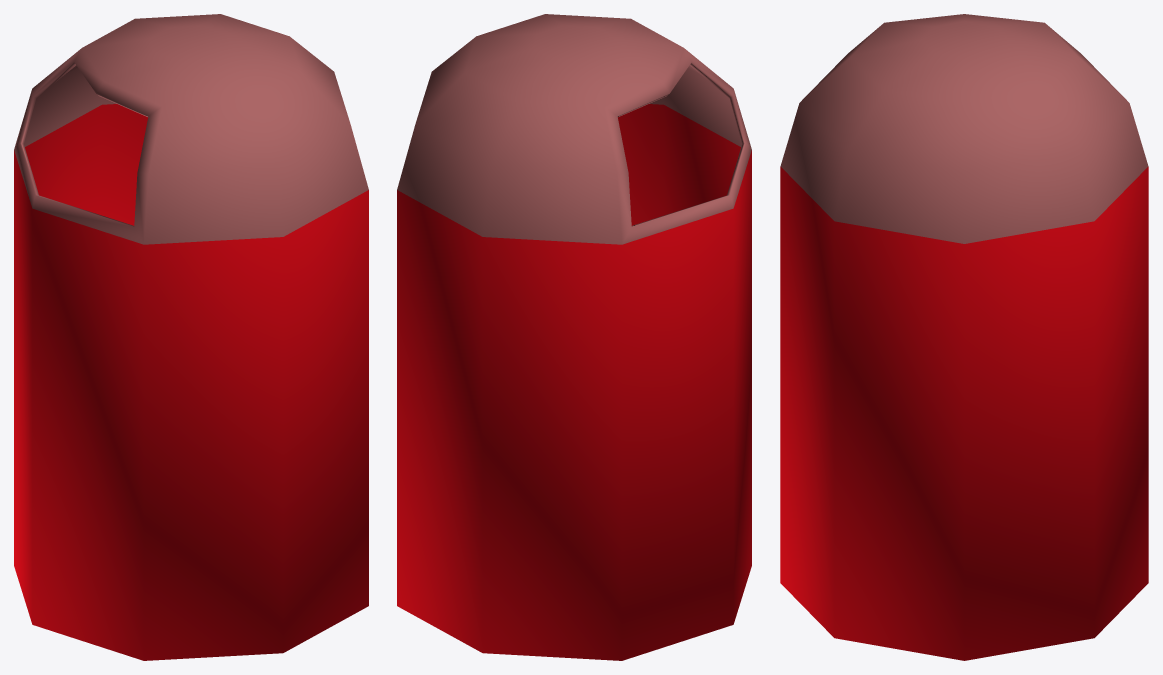
The picture shows the model from 3 angles, left to right: view 1: azimuth 30°, elevation 25°; view 2: azimuth 150°, elevation 25°; view 3: azimuth 270°, elevation 25°; orthographic projection.
Visible parts, largest first — view 1: Bin; view 2: Bin; view 3: Bin.
Part boxes in pixels (box(x1,y1,x2,y2)): Bin: box(14, 14, 368, 660); Bin: box(397, 14, 751, 660); Bin: box(780, 14, 1148, 660).
Size of the model in its own units: 80 by 130 by 80.
